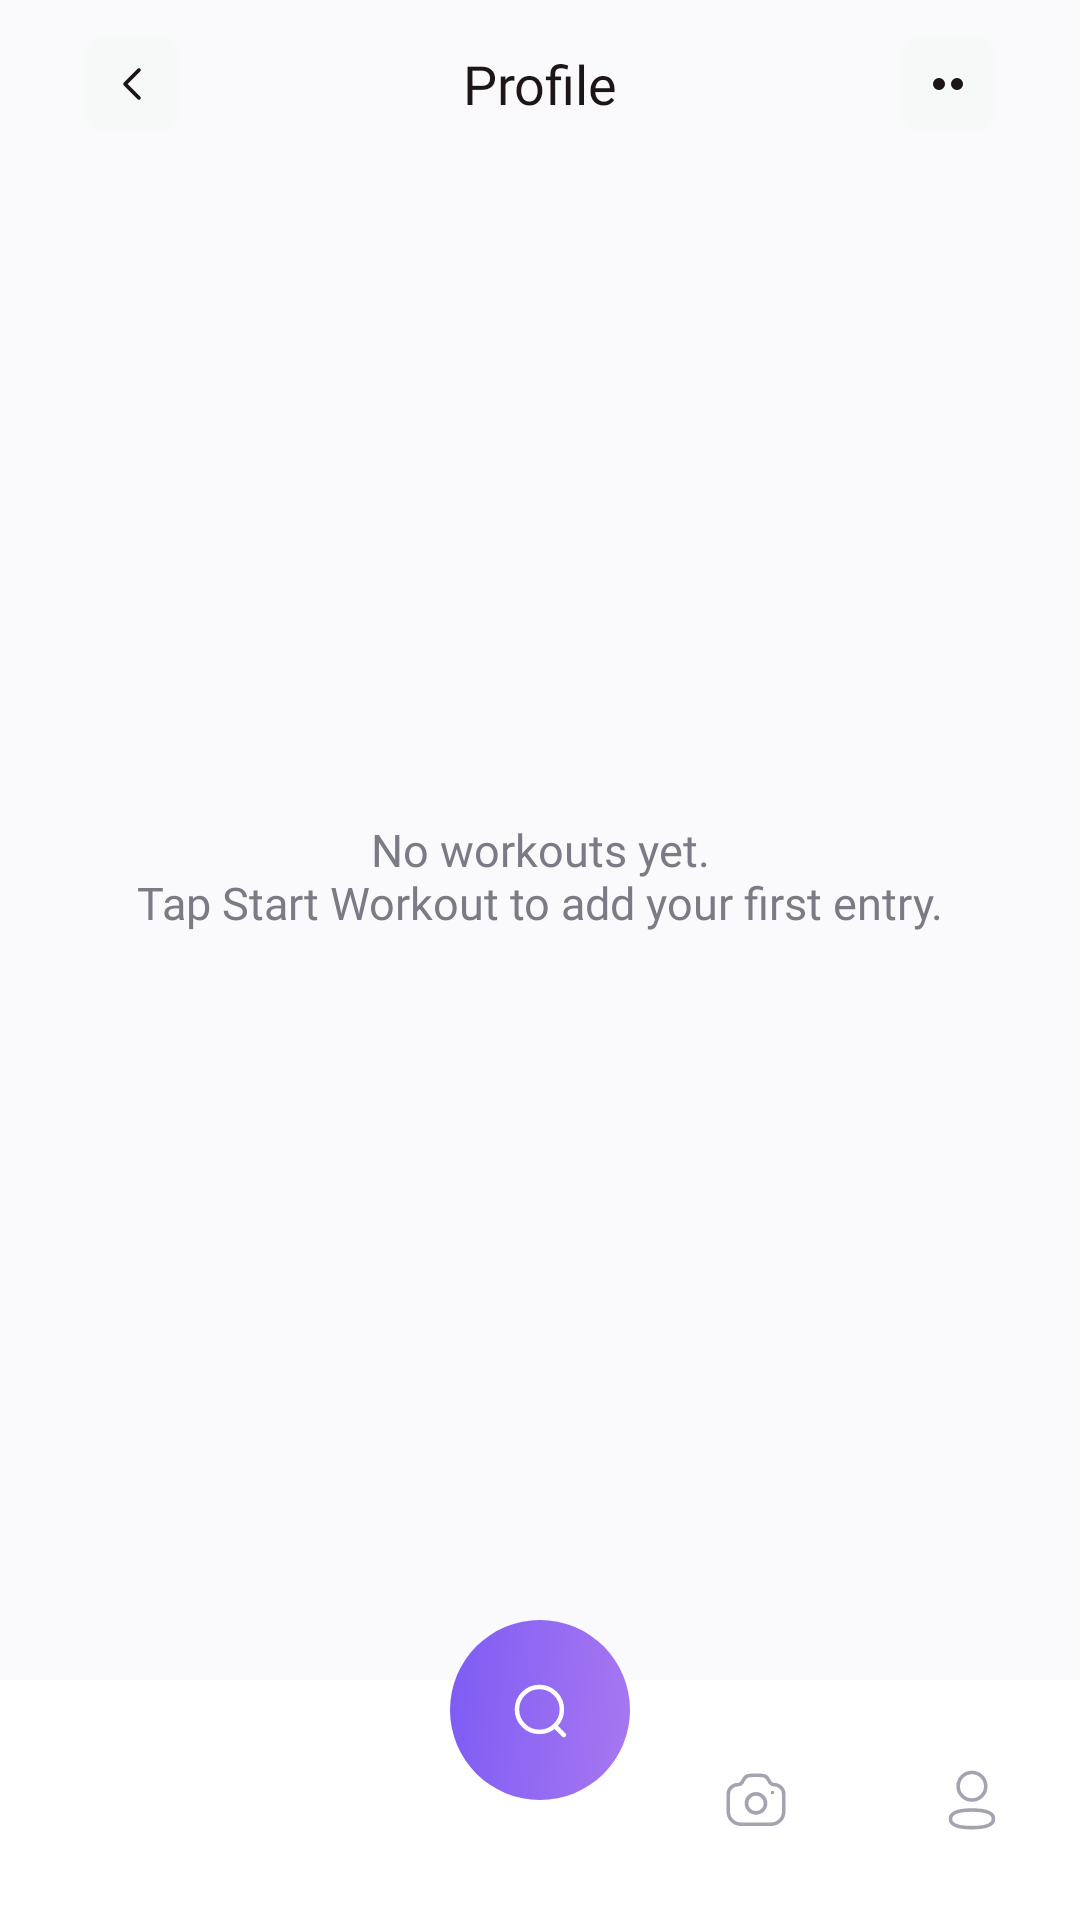

Locate icon controls on the screen. Image size 1080×1920, boxes as (x1, y1, x2, y2).
Back: (123, 68, 141, 100)
Camera: (726, 1773, 786, 1826)
Profile: (949, 1771, 995, 1830)
Search: (450, 1620, 630, 1800)
